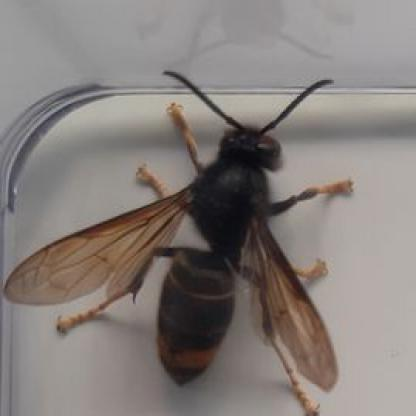Asian Hornet: (5, 76, 347, 390)
